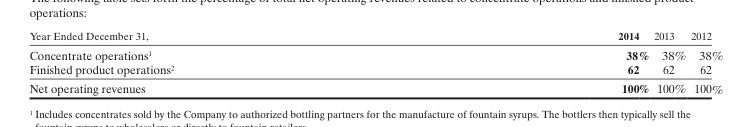table: (28, 29, 722, 95)
table column: (28, 29, 395, 95), (395, 29, 650, 95), (650, 29, 687, 95), (687, 29, 722, 95)
table column header: (28, 29, 722, 44)
table row: (28, 44, 722, 61), (28, 61, 722, 78), (28, 78, 722, 95), (28, 29, 722, 44)
